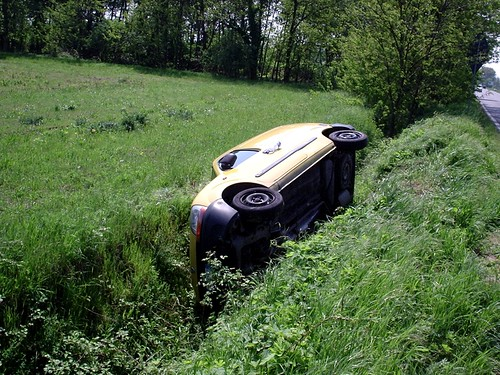car: (175, 105, 371, 297)
grass: (1, 69, 468, 375)
tree: (338, 1, 467, 118)
vegetation: (1, 1, 328, 78)
